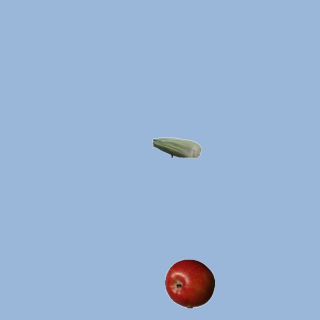Apple Braeburn: (164, 258, 214, 308)
Corn Husk: (151, 122, 201, 172)
